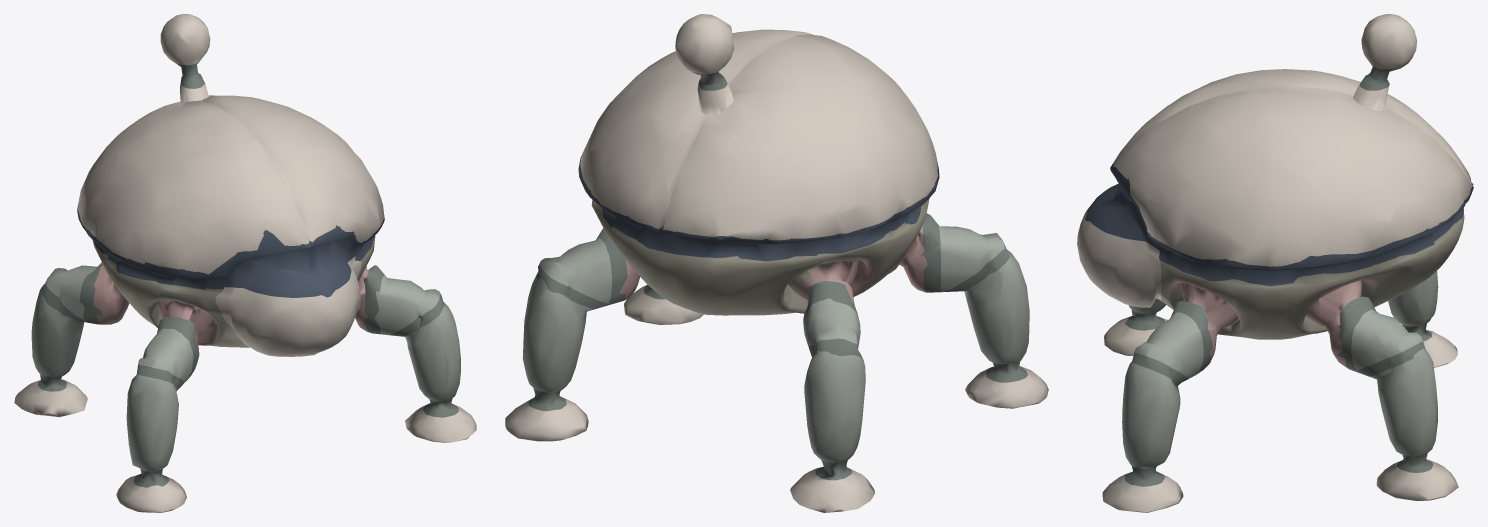
File: crawler.glb
The picture shows the model from 3 angles, left to right: view 1: azimuth 30°, elevation 25°; view 2: azimuth 150°, elevation 25°; view 3: azimuth 270°, elevation 25°; orthographic projection. The views are drawn at different scales.
Visible parts, largest first — view 1: crawler; view 2: crawler; view 3: crawler.
Part boxes in pixels (bbox=[...]): crawler: bbox=[14, 14, 476, 512]; crawler: bbox=[505, 14, 1048, 512]; crawler: bbox=[1077, 14, 1473, 512].
Bounding box in the file's own units: 0.6588 × 0.6604 × 0.5854.
